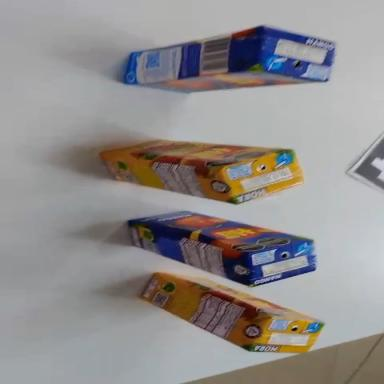HIT-MANGO: (120, 198, 322, 300), (120, 20, 338, 97)
HIT-MORA: (136, 259, 323, 372), (97, 134, 305, 209)
cara_F: (126, 198, 312, 268), (157, 262, 324, 337), (99, 134, 291, 173), (133, 65, 322, 97)
